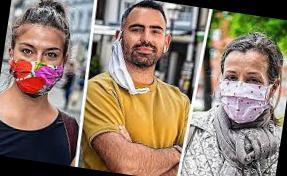with_mask: (11, 34, 66, 90), (218, 62, 270, 119)
without_mask: (124, 20, 169, 74)
